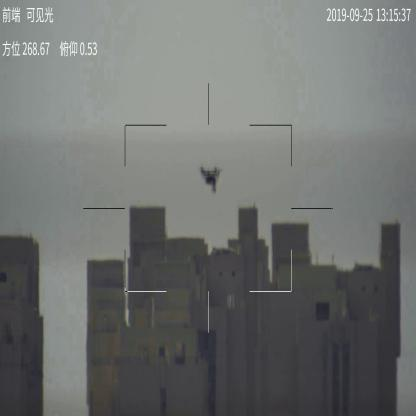uav: (198, 164, 223, 194)
